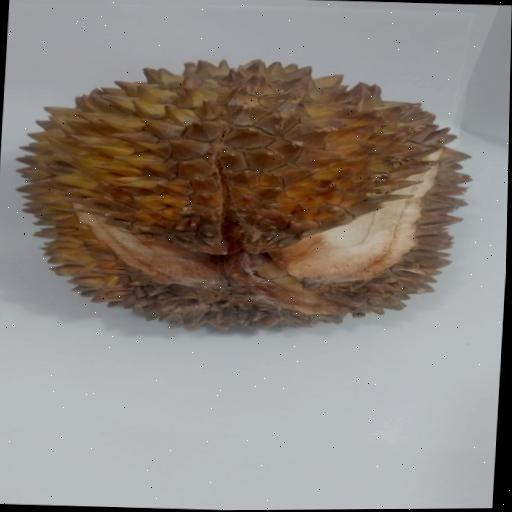rot: (0, 34, 495, 374)
